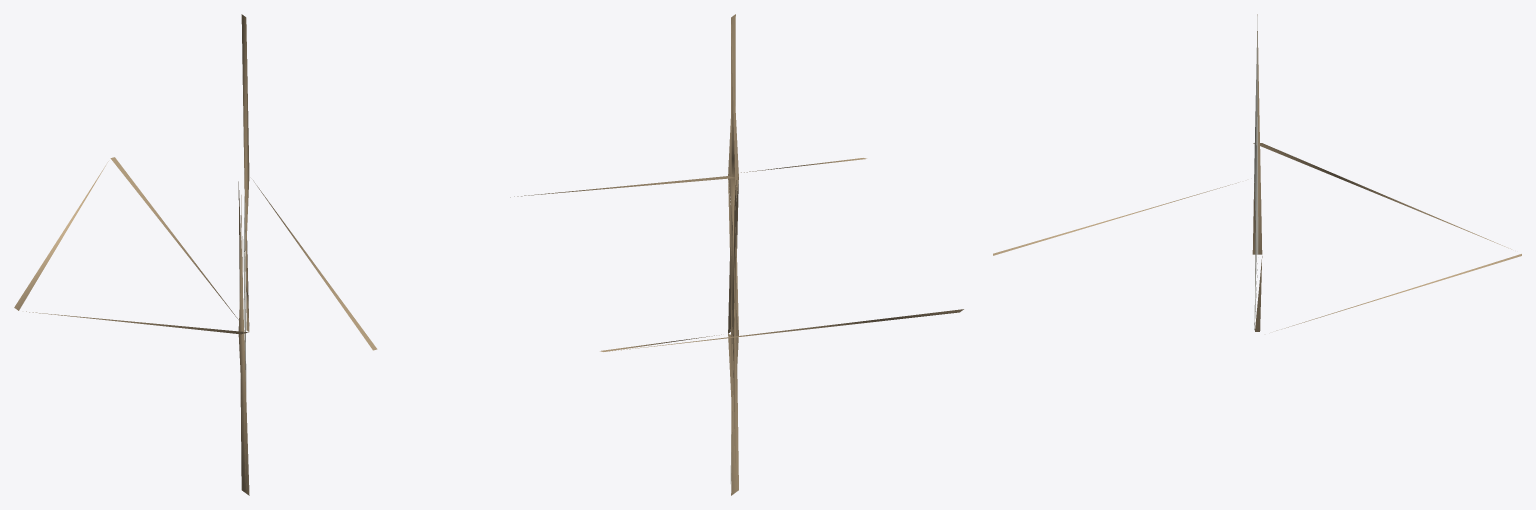
Rendered from equip_weapon_longbow.glb.
3 renders of one model, left to right at view 1: azimuth 30°, elevation 25°; view 2: azimuth 150°, elevation 25°; view 3: azimuth 270°, elevation 25°, orthographic.
Visible parts, largest first — view 1: equip_weapon_longbow; view 2: equip_weapon_longbow; view 3: equip_weapon_longbow.
Part boxes in pixels (<box>): equip_weapon_longbow: <box>14,14,377,495</box>; equip_weapon_longbow: <box>510,14,963,495</box>; equip_weapon_longbow: <box>993,14,1521,331</box>.
Size of the model in its own units: 2 by 2 by 2.
